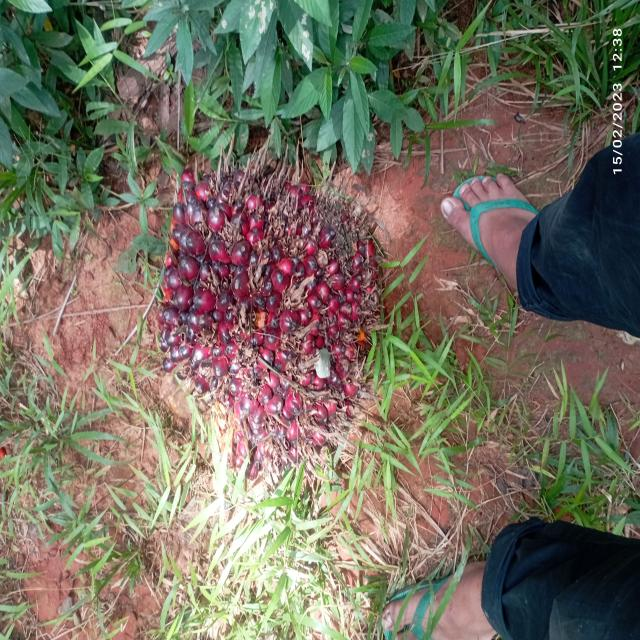fraksi 1: (133, 106, 407, 518)
